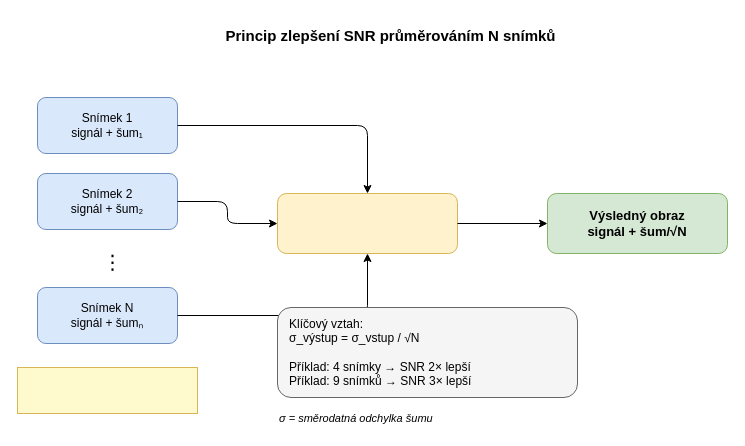
This 745x446 diagram has some shape labels left out. The box of each missing label's shape, as (x1, y1, x2, y2) in pixels:
Průměrování (zarovnané snímky): (276, 192, 458, 254)
Šum je nezávislý a náhodný mezi snímky: (16, 366, 198, 414)
